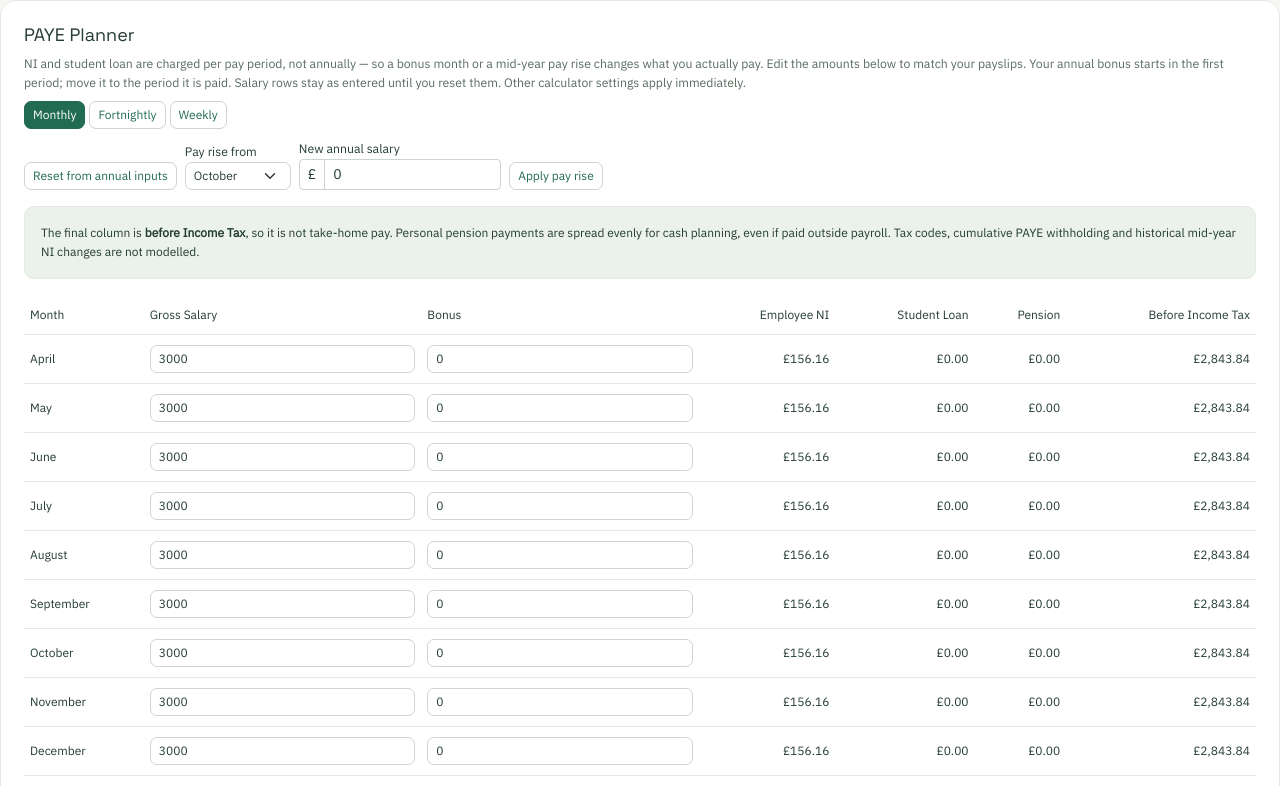
Test: PayePlanner › switches to weekly pay periods with 52 rows
Click the button "Weekly" at coordinates (198, 115), box [170,101,227,129]
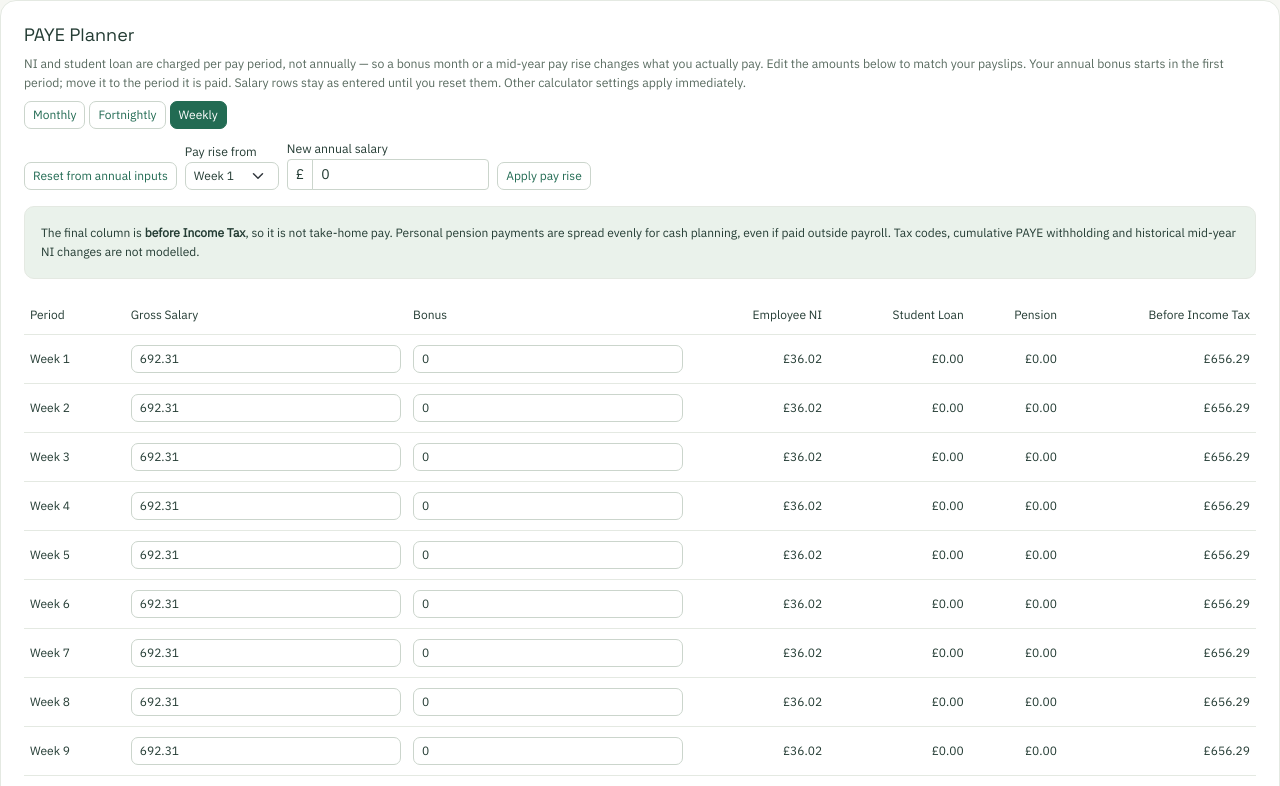
expect the number of number fields named "gross salary" is 52: met
expect the number field named "gross salary" holds "692.31": met, box [131,345,401,373]
